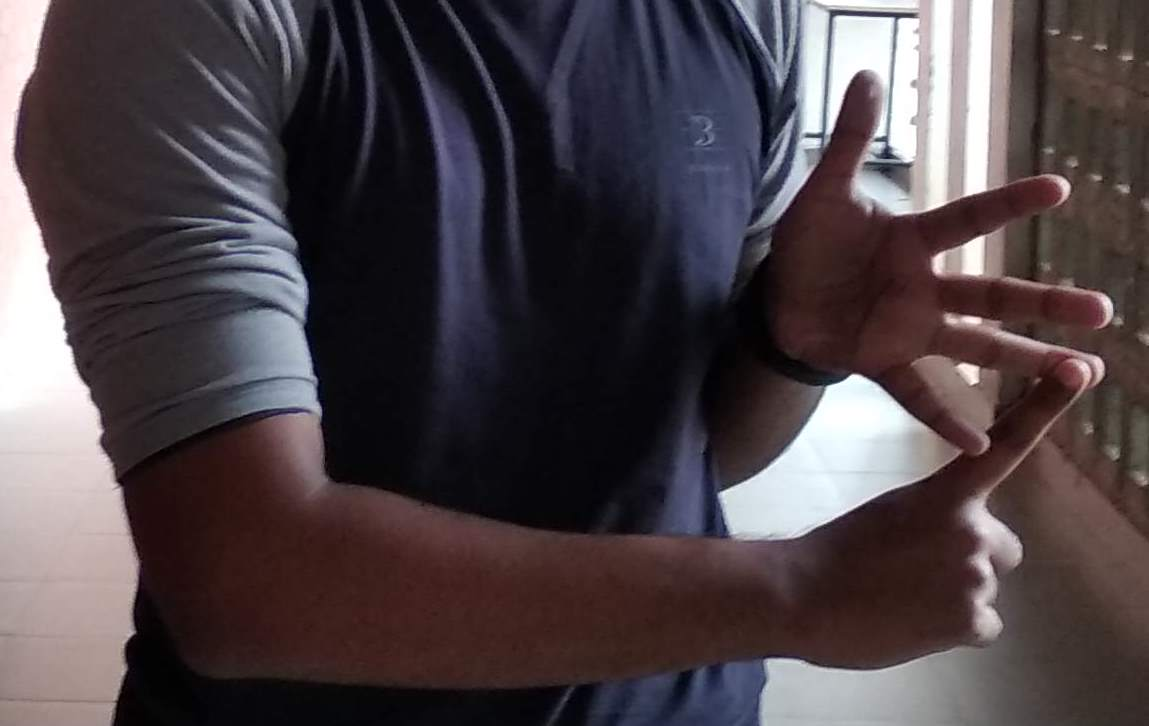e: (774, 150, 1109, 630)
